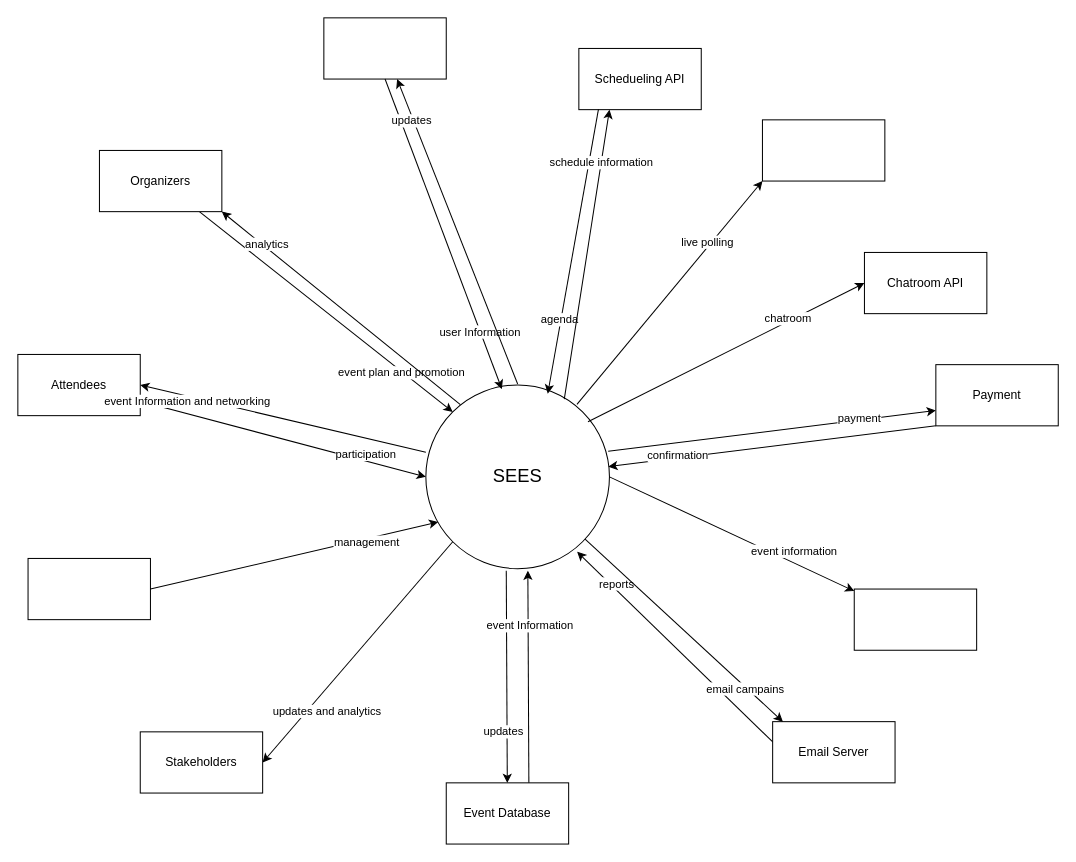
Image size: 1076x862. Some labels were removed from this diagram. The shapes that lost their labels are listed below. From the top down, each one's centre as x and y in pixels, then its label:
the point at 384,48: User Database
the point at 823,150: Polling API
the point at 88,588: Administrative users
the point at 915,619: Calendar
